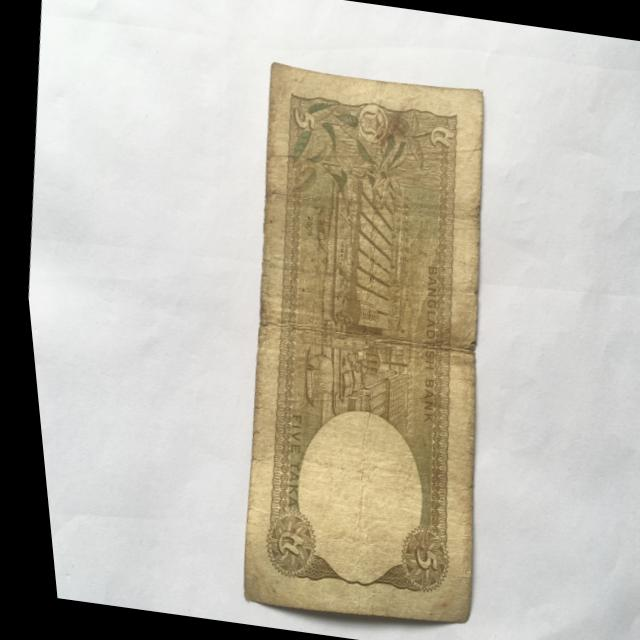Taka: (187, 49, 536, 636)
